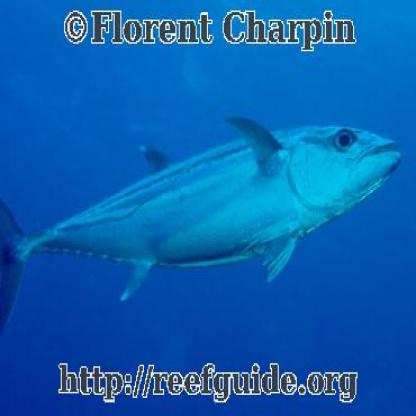Scombridae -Tunas-: (1, 116, 405, 333)
